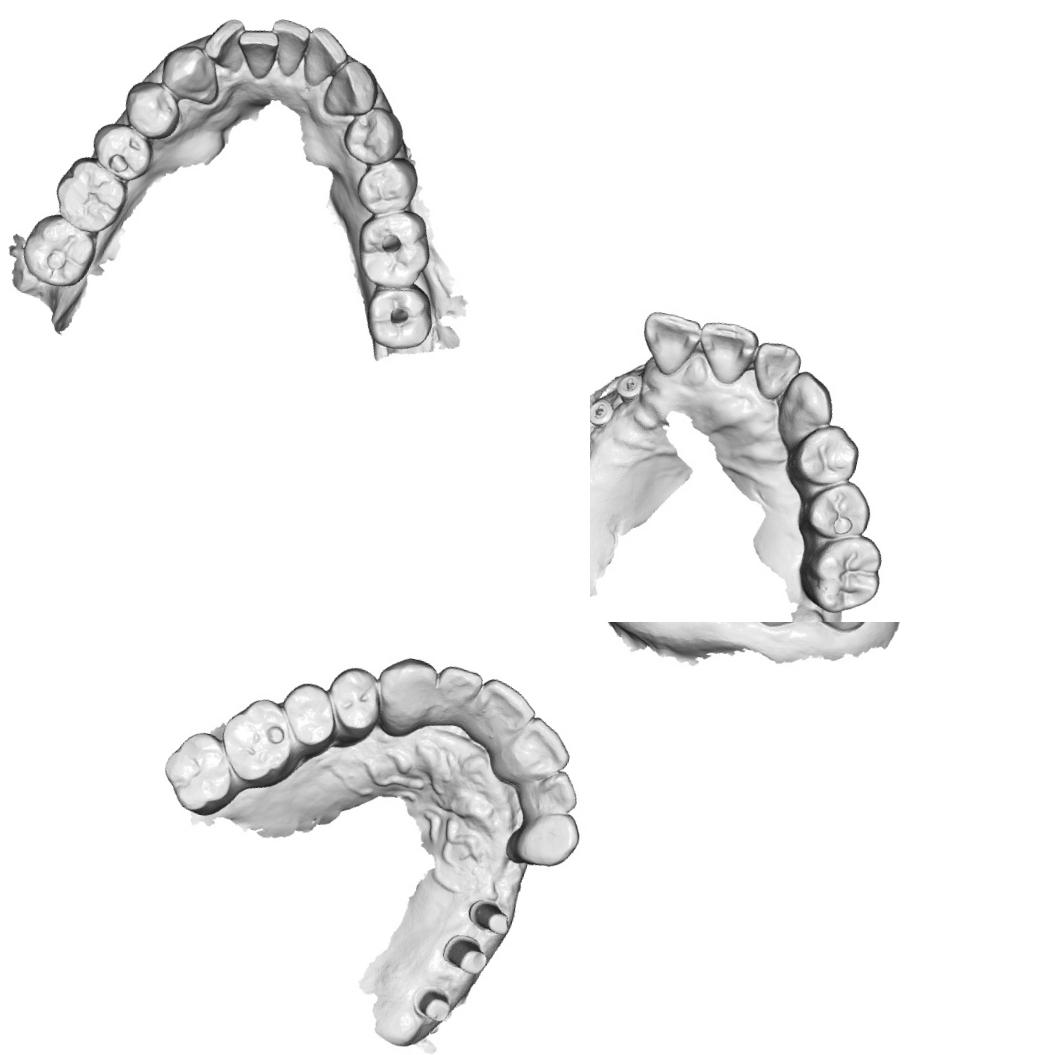abutment: (438, 930, 492, 978), (463, 895, 516, 939), (409, 981, 456, 1026)
canine: (365, 650, 442, 744), (501, 802, 584, 878), (773, 366, 842, 457), (154, 38, 226, 110), (318, 52, 384, 124)
implant_minus: (612, 368, 645, 407), (590, 394, 617, 429)
incisor: (689, 314, 761, 390), (632, 307, 705, 381), (512, 712, 580, 779), (472, 673, 544, 734), (427, 662, 485, 734), (747, 337, 805, 406), (299, 24, 352, 92), (201, 13, 254, 76), (262, 16, 312, 78), (230, 22, 280, 82), (532, 766, 584, 820)
molar: (210, 690, 306, 793), (793, 524, 890, 622), (155, 724, 247, 822), (346, 201, 438, 297), (48, 148, 134, 240), (17, 206, 102, 294), (358, 276, 441, 358)
premolar: (786, 416, 867, 494), (318, 661, 390, 746), (799, 472, 878, 548), (272, 676, 346, 755), (350, 148, 424, 224), (84, 116, 159, 186), (117, 76, 187, 145), (338, 100, 406, 170)
